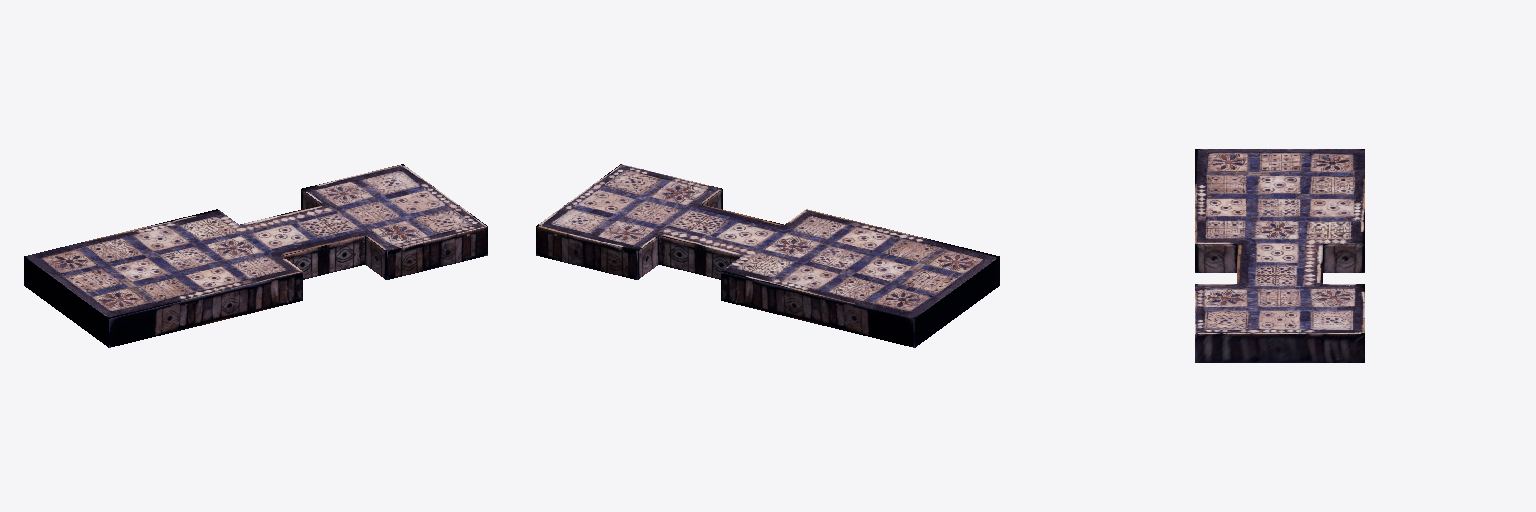
The picture shows the model from 3 angles: view 1: azimuth 30°, elevation 25°; view 2: azimuth 150°, elevation 25°; view 3: azimuth 270°, elevation 25°; orthographic projection.
Visible parts, largest first — view 1: Board_Plane; view 2: Board_Plane; view 3: Board_Plane.
Part boxes in pixels (bbox=[...]): Board_Plane: bbox=[24, 164, 487, 347]; Board_Plane: bbox=[536, 164, 999, 347]; Board_Plane: bbox=[1195, 149, 1364, 362].
Bounding box in the file's own units: 8.2 × 0.6 × 3.2.
1 materials, 1 textured.